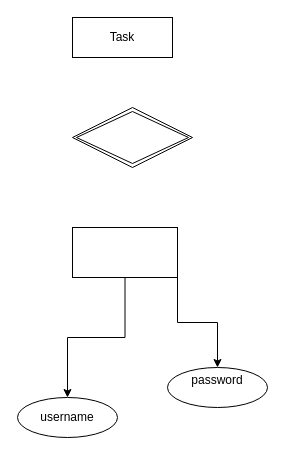
Image size: 285x455. Some labels were removed from this diagram. The centre of each missing label's shape, as x and y in pixels:
"Adds" belongs at [132,137].
"User" belongs at [125,252].
